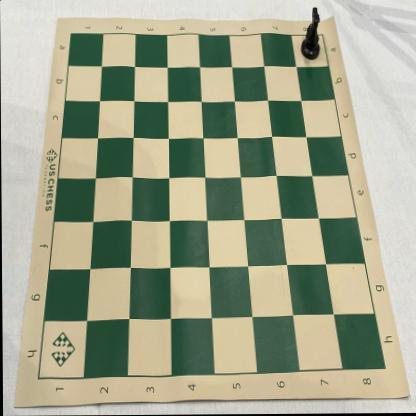black-knight: (300, 7, 321, 61)
